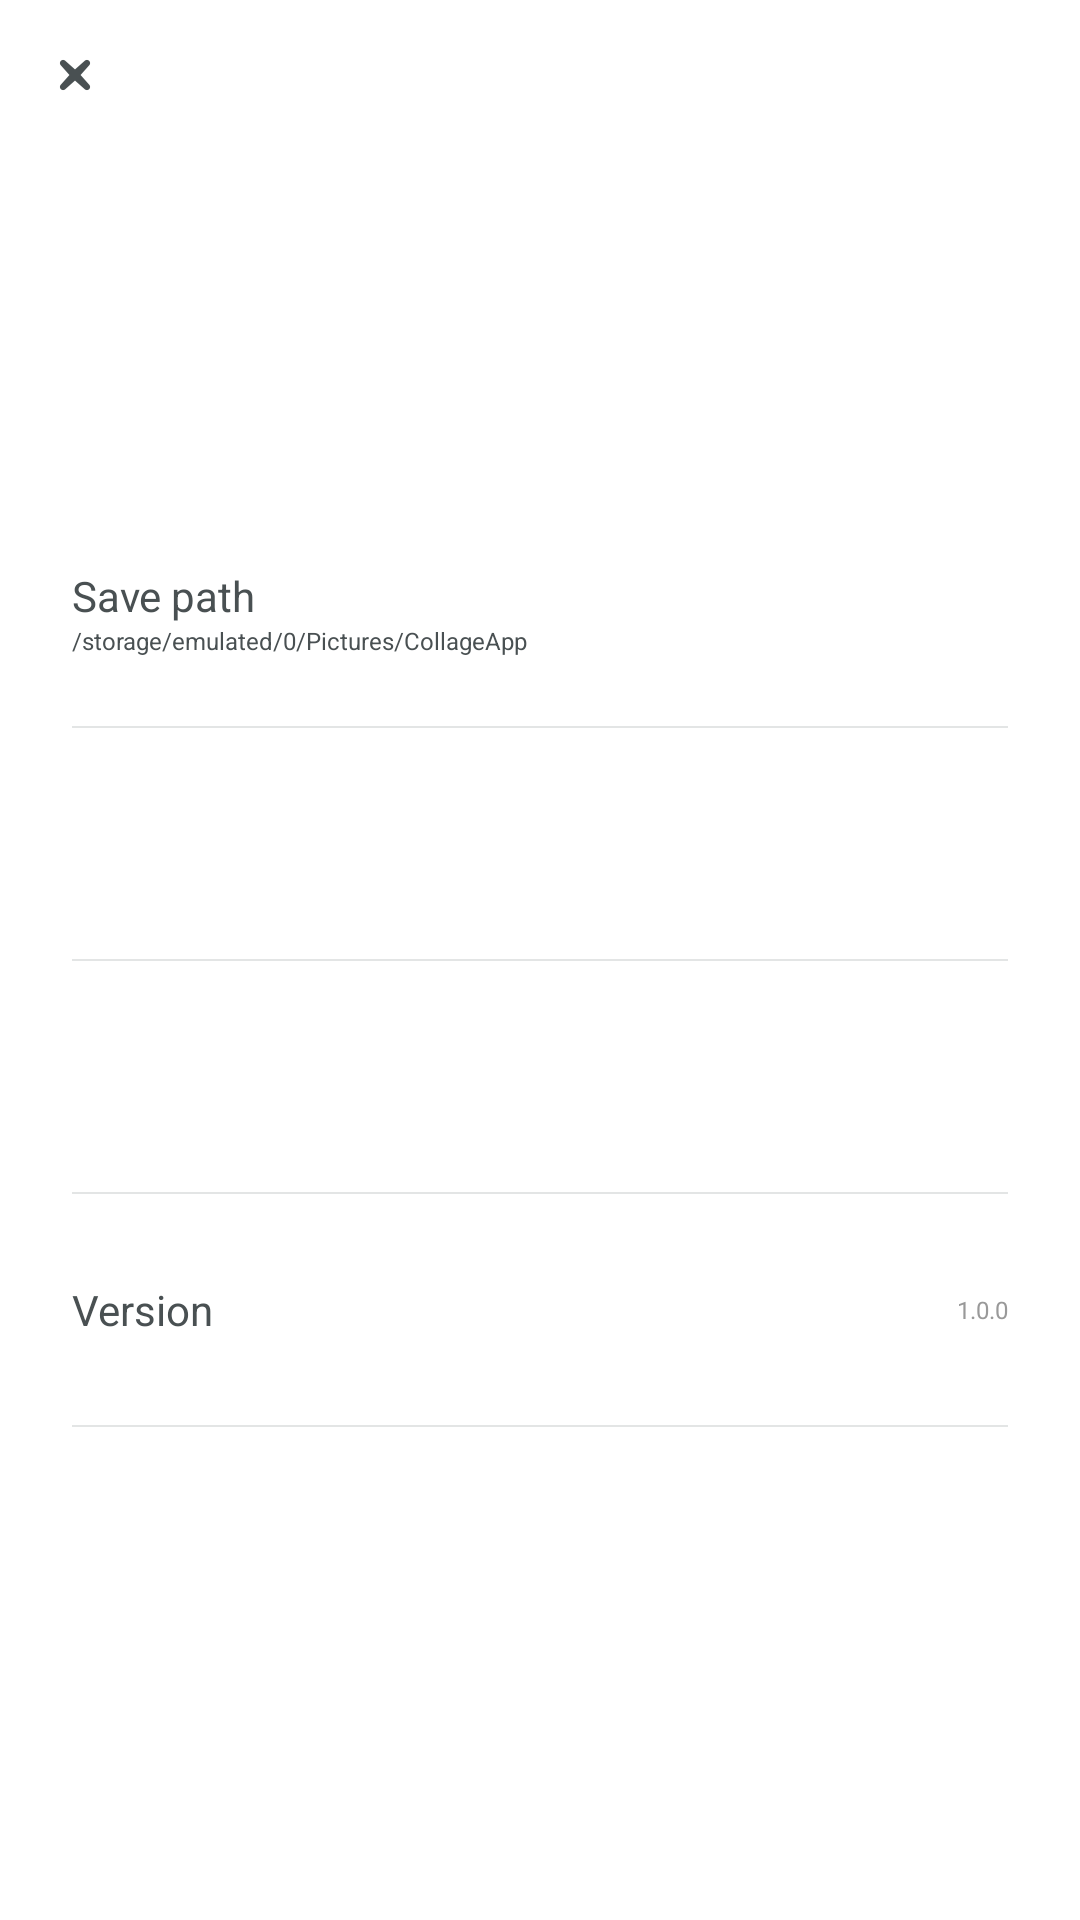

Named icons in this screenshot (1080x1920) and their bounding boxes, (x1, y1, x2, y2):
close: (60, 60, 90, 90)
